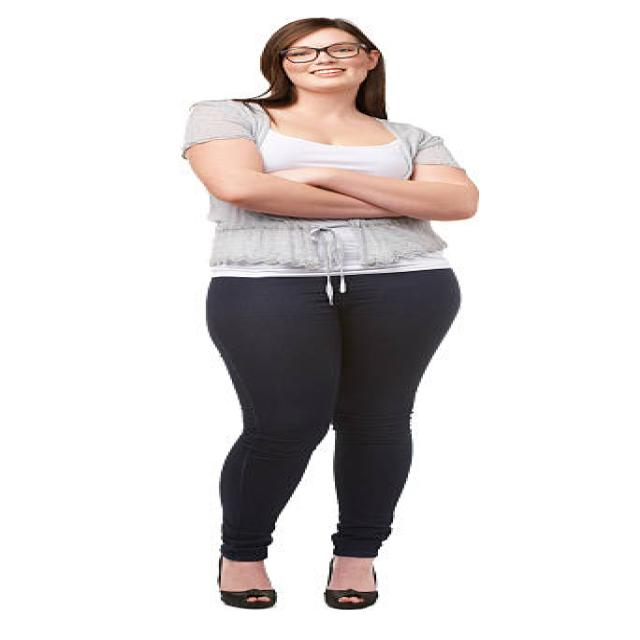Edited images: (126, 4, 517, 632)
